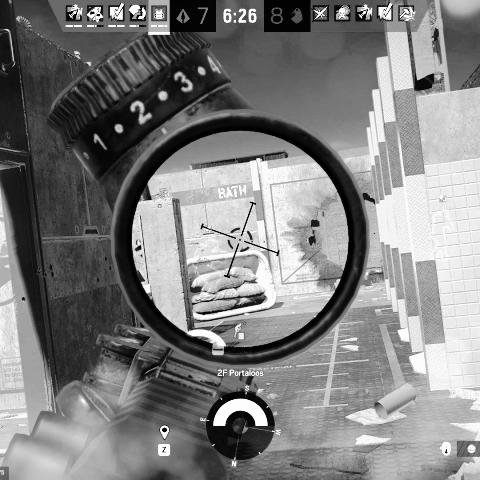Friend_label: (434, 194, 450, 211), (201, 224, 217, 238)
